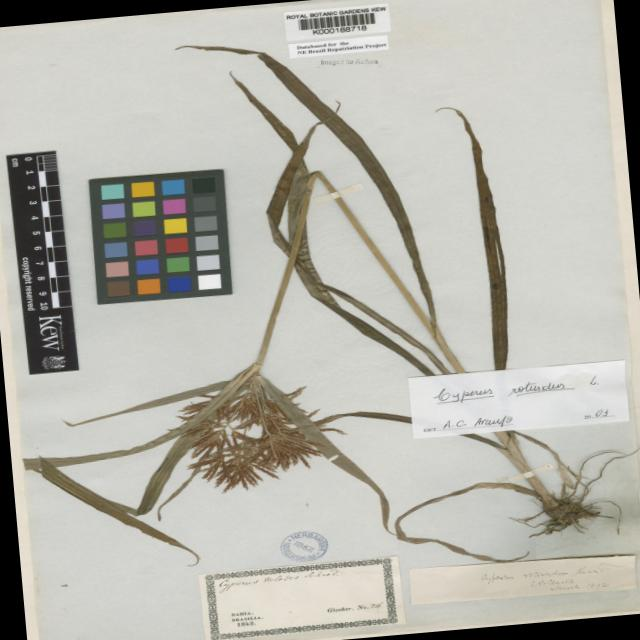cyperus: (159, 374, 346, 496)
